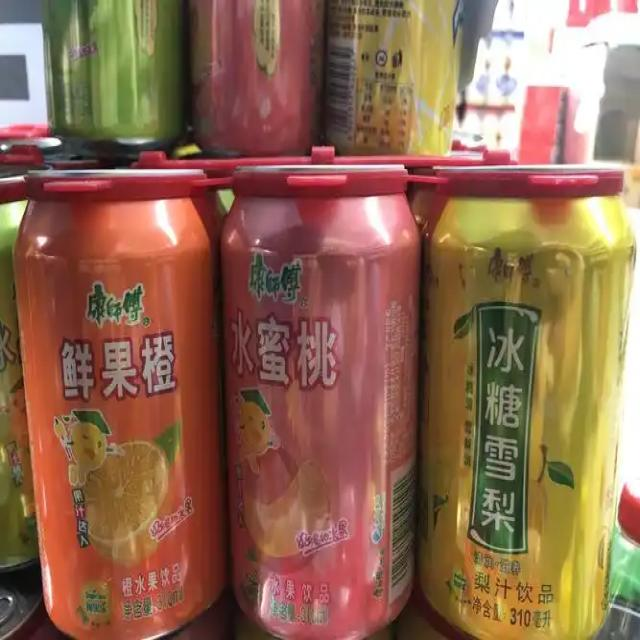can: (416, 166, 637, 640), (12, 165, 226, 640), (216, 162, 425, 640), (324, 1, 465, 162), (38, 0, 185, 151), (185, 0, 323, 156), (1, 178, 43, 576)
